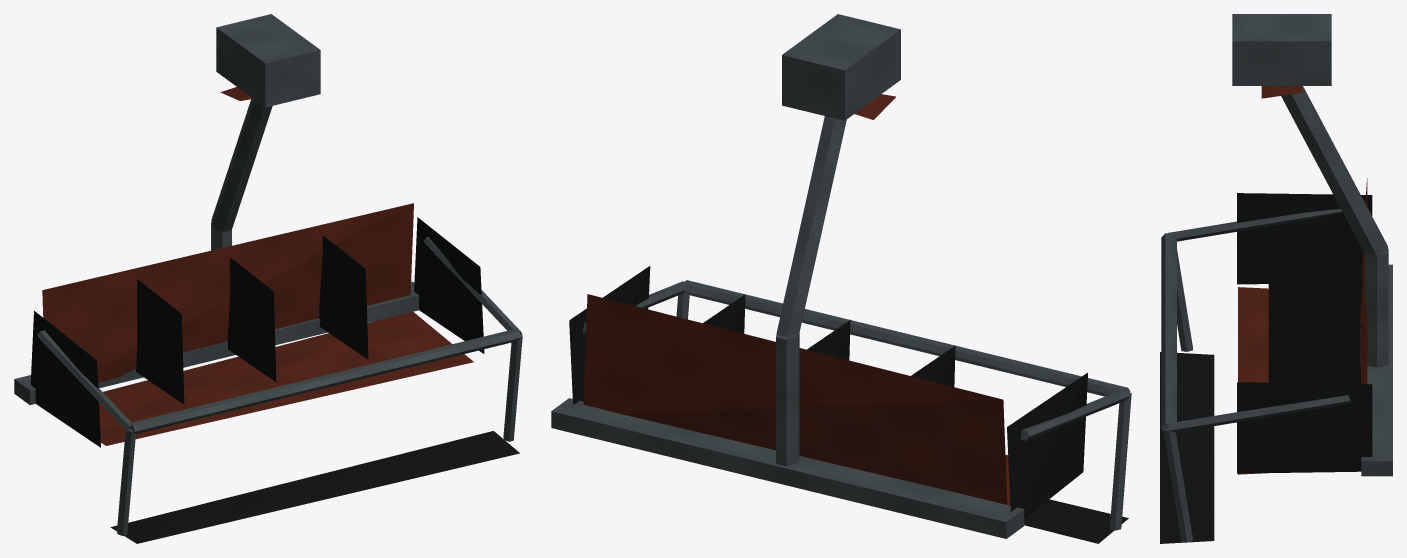
Rendered from chairlift-chair-lod.glb.
3 views of the same model, side by side, from view 1: azimuth 30°, elevation 25°; view 2: azimuth 150°, elevation 25°; view 3: azimuth 270°, elevation 25° (orthographic). The views are drawn at different scales.
Visible parts, largest first — view 1: chairlift-chair-chair-hanger.001, chairlift-chair-chair-hanger.002, chairlift-chair-chair-hanger; view 2: chairlift-chair-chair-hanger.001, chairlift-chair-chair-hanger, chairlift-chair-chair-hanger.002; view 3: chairlift-chair-chair-hanger.002, chairlift-chair-chair-hanger, chairlift-chair-chair-hanger.001.
Part boxes in pixels (x1,y1,x2,y2): chairlift-chair-chair-hanger.001: (42,87,473,445); chairlift-chair-chair-hanger.002: (30,217,519,543); chairlift-chair-chair-hanger: (14,14,522,535); chairlift-chair-chair-hanger.001: (583,94,1010,505); chairlift-chair-chair-hanger: (551,14,1131,538); chairlift-chair-chair-hanger.002: (569,266,1128,543); chairlift-chair-chair-hanger.002: (1160,193,1372,543); chairlift-chair-chair-hanger: (1161,14,1392,542); chairlift-chair-chair-hanger.001: (1238,86,1367,474).
Size of the model in its own units: 2.6 by 2.6 by 1.3.
3 materials, 3 textured.
